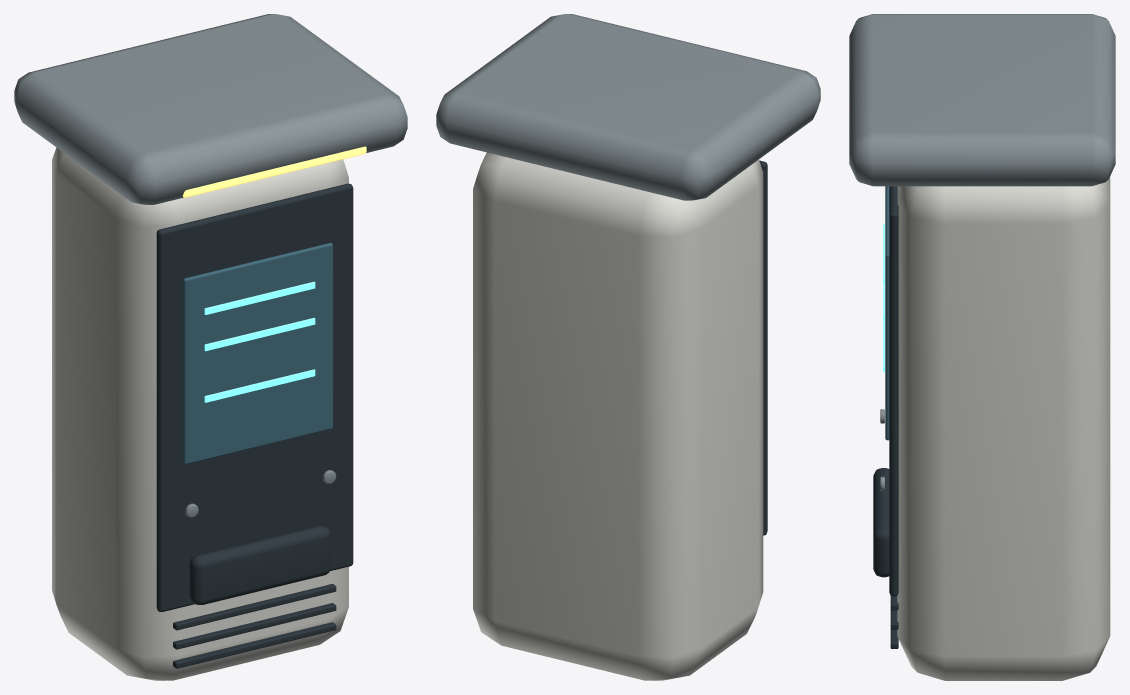
File: utility-box.glb
The picture shows the model from 3 angles, left to right: view 1: azimuth 30°, elevation 25°; view 2: azimuth 150°, elevation 25°; view 3: azimuth 270°, elevation 25°; orthographic projection. The views are drawn at different scales.
Parts seen in each view (by area): view 1: NC ceramic ivory.007, NC graphite.007, NC brushed titanium.007, NC sapphire glazing.007, NC cyan.004, NC amber.004; view 2: NC ceramic ivory.007, NC brushed titanium.007, NC graphite.007; view 3: NC ceramic ivory.007, NC brushed titanium.007, NC graphite.007, NC sapphire glazing.007.
Boxes of the visible parts, x1,y1,x2,y2 form: NC ceramic ivory.007: [52, 147, 348, 680]; NC graphite.007: [156, 183, 353, 668]; NC brushed titanium.007: [14, 14, 407, 517]; NC sapphire glazing.007: [183, 243, 332, 464]; NC cyan.004: [204, 281, 315, 402]; NC amber.004: [182, 146, 366, 197]; NC ceramic ivory.007: [473, 152, 763, 680]; NC brushed titanium.007: [436, 14, 820, 200]; NC graphite.007: [759, 160, 767, 535]; NC ceramic ivory.007: [897, 176, 1110, 680]; NC brushed titanium.007: [849, 14, 1115, 490]; NC graphite.007: [873, 186, 898, 648]; NC sapphire glazing.007: [885, 186, 889, 440].
Size of the model in its own units: 1.22 by 2.36 by 1.
